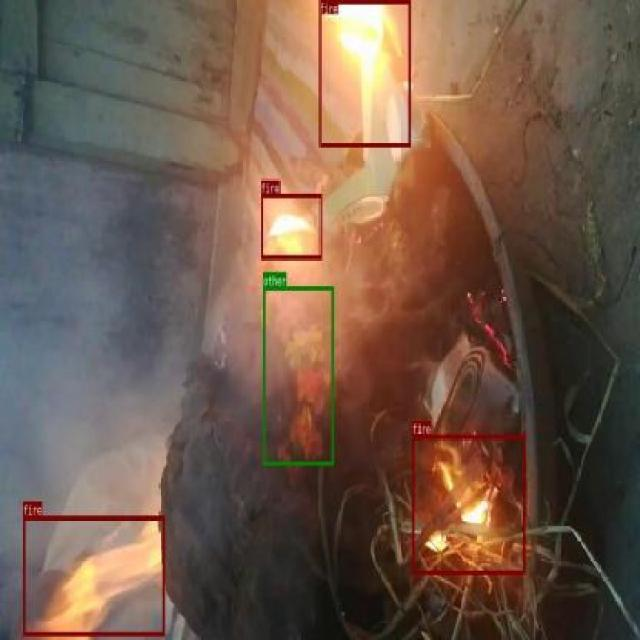Fire: (23, 516, 165, 636), (412, 434, 526, 574), (318, 0, 409, 146), (260, 194, 322, 258)
